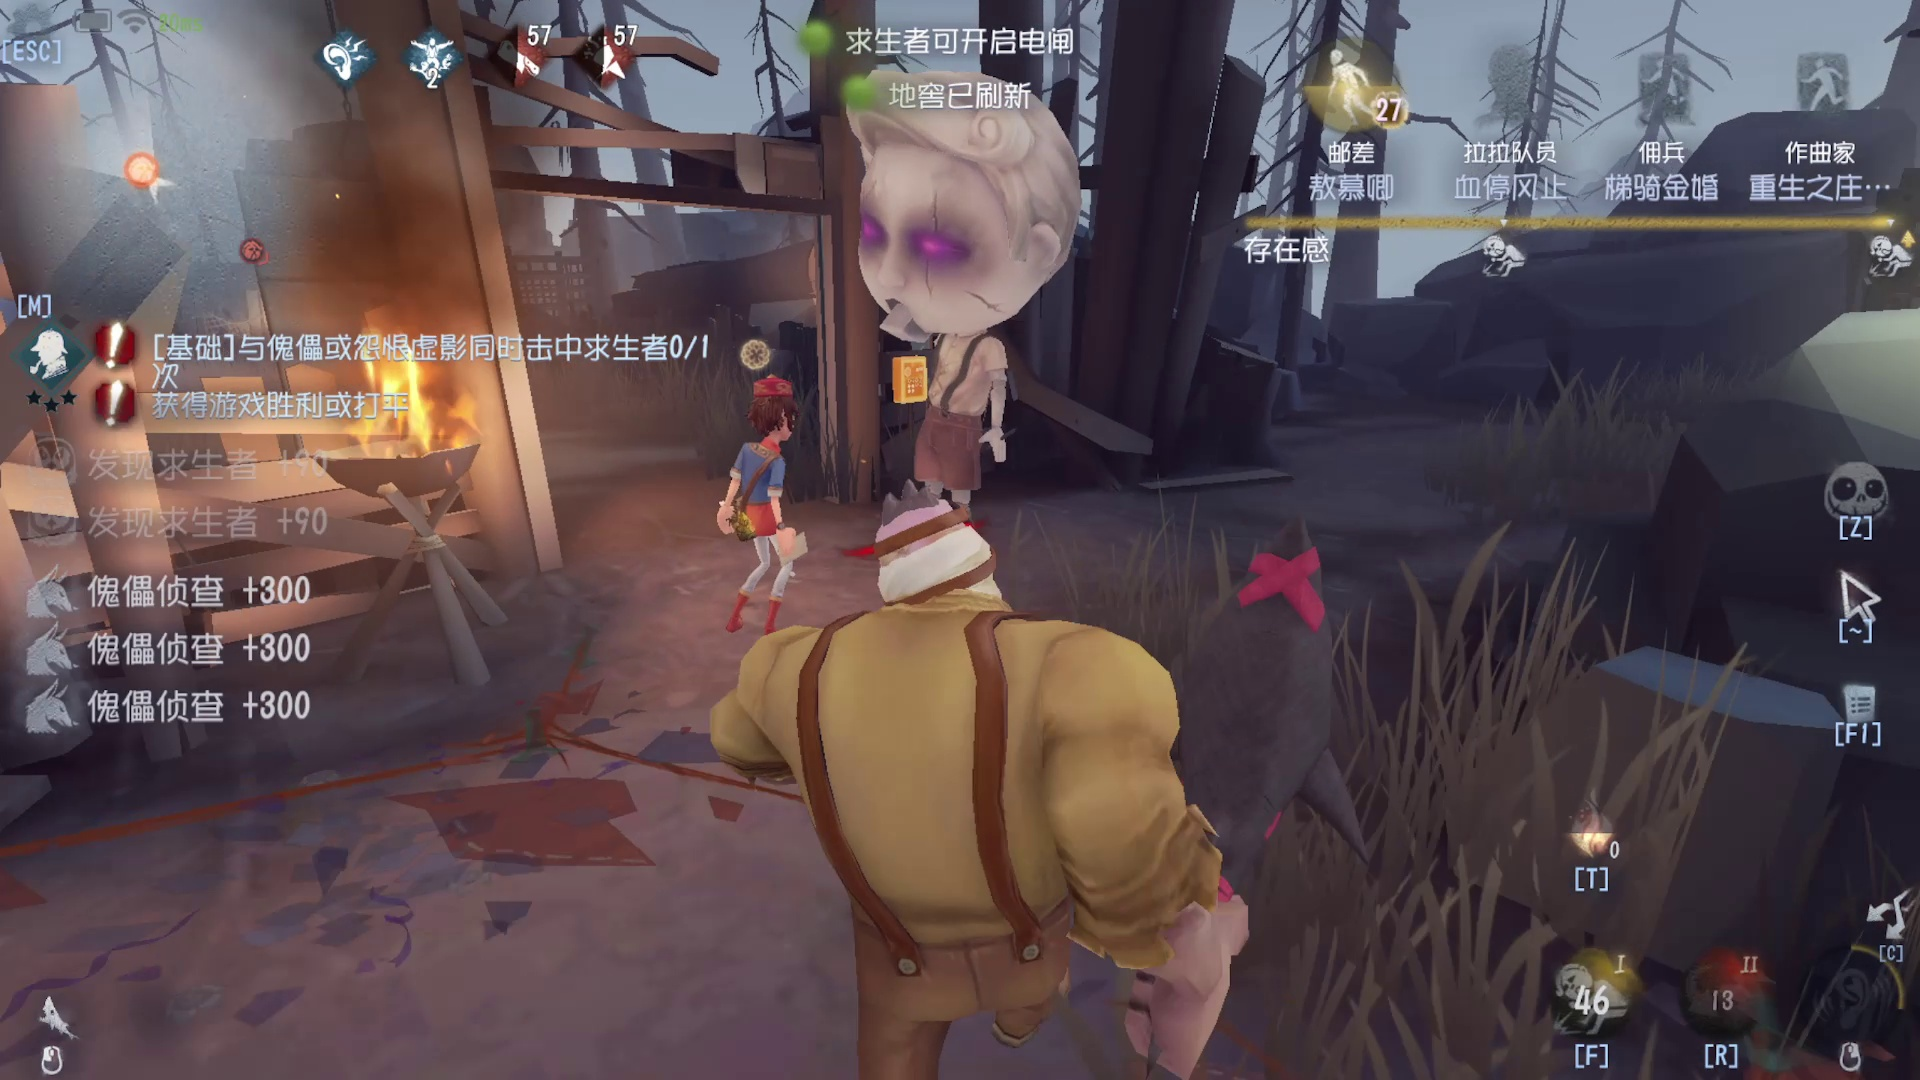求生者: (717, 339, 833, 615)
设置: (1, 1, 94, 84)
